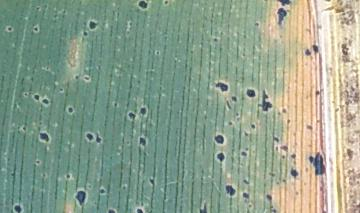tarspot: (306, 150, 329, 178), (256, 87, 276, 114), (72, 187, 89, 209), (276, 7, 289, 29), (223, 182, 238, 198), (37, 129, 52, 145), (212, 80, 230, 93), (212, 132, 227, 146), (85, 18, 101, 31), (196, 200, 210, 213), (82, 130, 96, 143), (214, 150, 226, 164), (245, 86, 257, 100), (137, 104, 149, 118), (147, 173, 158, 188), (135, 1, 151, 11), (288, 167, 301, 179), (126, 109, 138, 122), (137, 134, 148, 148), (4, 22, 15, 36), (224, 98, 234, 113), (310, 42, 321, 55), (239, 190, 251, 201), (63, 104, 76, 114), (275, 1, 293, 8), (270, 135, 281, 146), (303, 47, 313, 58), (280, 143, 290, 154), (239, 149, 249, 160), (12, 203, 23, 213), (82, 74, 95, 82), (240, 177, 250, 187), (247, 121, 257, 131), (229, 94, 239, 104), (110, 99, 120, 109), (265, 192, 274, 203), (63, 171, 72, 182), (94, 133, 102, 145), (305, 123, 315, 132), (278, 106, 288, 115), (97, 186, 107, 195), (33, 157, 42, 167), (41, 97, 50, 107), (20, 124, 29, 134), (313, 87, 321, 98), (251, 20, 262, 28), (242, 128, 250, 139), (33, 92, 41, 103), (56, 85, 65, 94), (32, 25, 41, 34), (73, 71, 81, 81), (105, 207, 118, 213), (134, 206, 144, 213), (22, 89, 29, 99), (285, 118, 293, 126), (290, 151, 297, 160), (268, 207, 278, 213), (280, 154, 287, 162), (81, 30, 88, 38), (277, 179, 288, 184), (161, 1, 170, 6)
